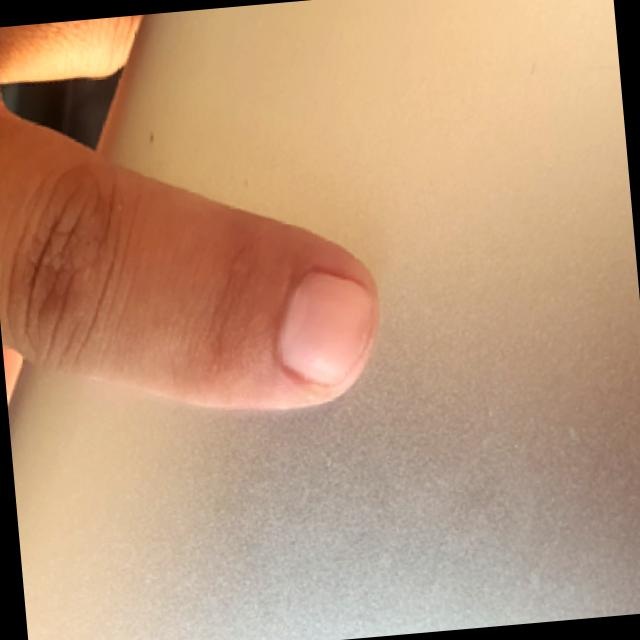Nail: (281, 273, 373, 387)
